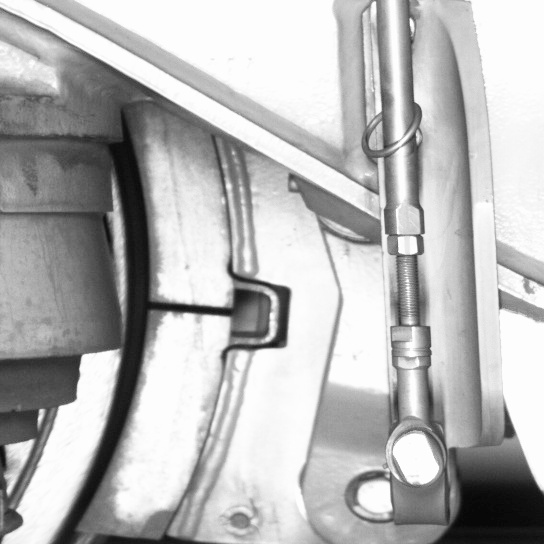KnifeSwitch: (43, 137, 255, 541)
